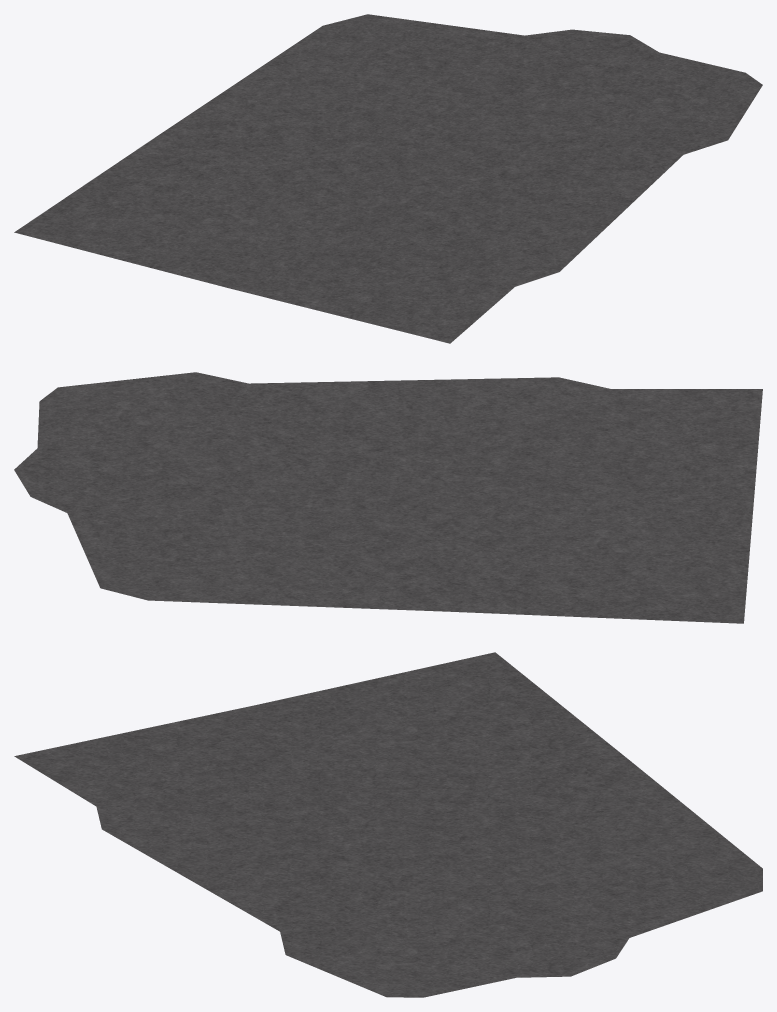
The model's file is road_06.glb.
The picture shows the model from 3 angles, top to bottom: view 1: azimuth 30°, elevation 25°; view 2: azimuth 150°, elevation 25°; view 3: azimuth 270°, elevation 25°; orthographic projection. The views are drawn at different scales.
Visible parts, largest first — view 1: road_06.surface; view 2: road_06.surface; view 3: road_06.surface.
Boxes of the visible parts, x1=… form: road_06.surface: x1=14, y1=14, x2=762, y2=343; road_06.surface: x1=14, y1=372, x2=762, y2=623; road_06.surface: x1=14, y1=652, x2=762, y2=997.
Size of the model in its own units: 4.65 by 0.0948 by 4.08.
Materials: 1 (1 with a texture image).
